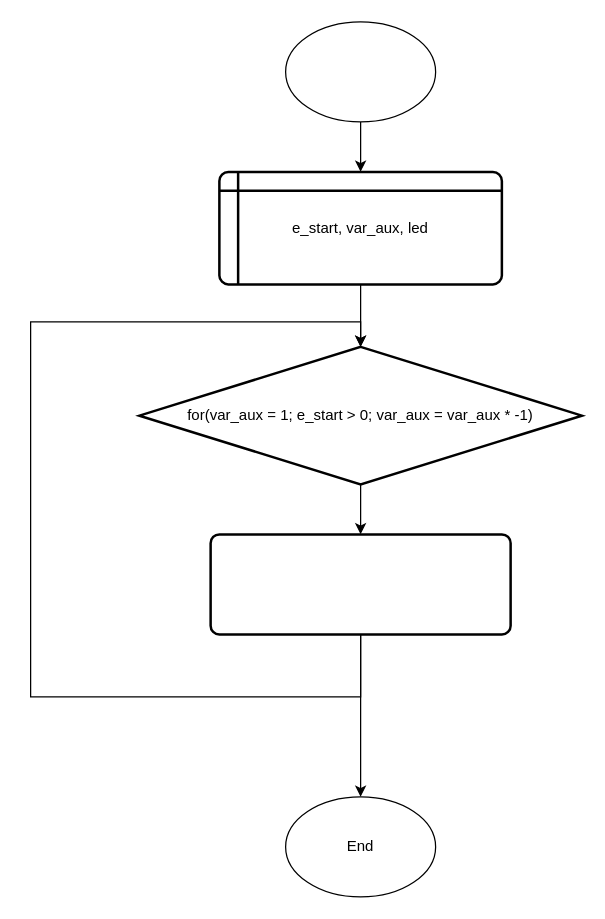
Some shapes in this 605 by 919 pixel diagram are drawn without their labels. Here are the shapes that lost their labels. From the top down, the centre of each, then its label:
the point at 360,71: Start
the point at 360,583: led = led + var_aux printf("led: %d\n", led) usleep(500000);
